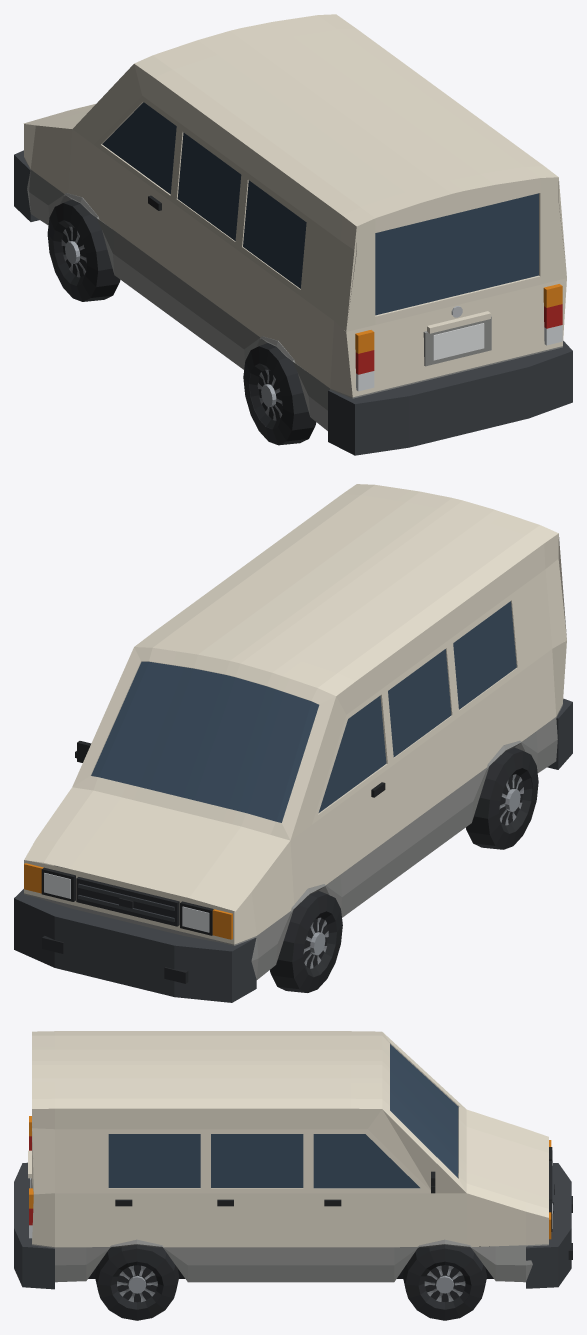
The model's file is service van (1).fbx.
3 views of the same model, one above another, from view 1: azimuth 30°, elevation 25°; view 2: azimuth 150°, elevation 25°; view 3: azimuth 270°, elevation 25° (orthographic). The views are drawn at different scales.
Parts seen in each view (by area): view 1: Door_Handle_FL, aaaaab, Wheel_RL, Wheel_FL; view 2: Door_Handle_FL, aaaaab, Wheel_FL, Wheel_RL; view 3: Door_Handle_FL, aaaaab, Wheel_RR, Wheel_FR.
Boxes of the visible parts, x1,y1,x2,y2 form: Door_Handle_FL: [14, 14, 572, 455]; aaaaab: [24, 157, 562, 430]; Wheel_RL: [243, 343, 316, 445]; Wheel_FL: [47, 199, 120, 301]; Door_Handle_FL: [14, 484, 572, 1002]; aaaaab: [24, 704, 562, 979]; Wheel_FL: [270, 891, 342, 992]; Wheel_RL: [466, 747, 538, 849]; Door_Handle_FL: [14, 1031, 572, 1289]; aaaaab: [32, 1239, 548, 1282]; Wheel_RR: [95, 1244, 179, 1320]; Wheel_FR: [402, 1244, 487, 1320].
Size of the model in its own units: 189 by 195 by 463.
